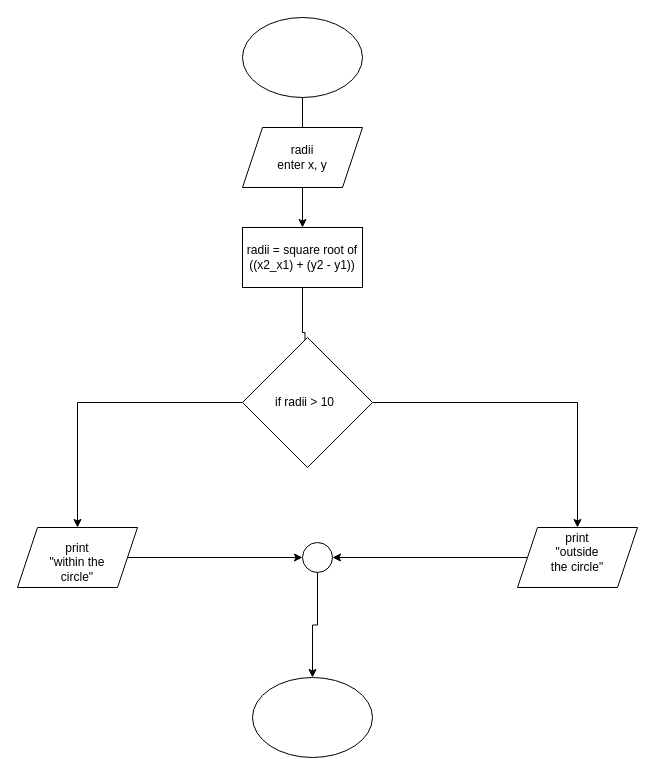
The diagram is 655 pixels wide and 775 high, and some of its shapes have lost their labels. The shapes that lost their labels are listed below. From the top down, each one's centre as x and y in pixels, then its label:
(x=302, y=57): START
(x=312, y=717): STOP
